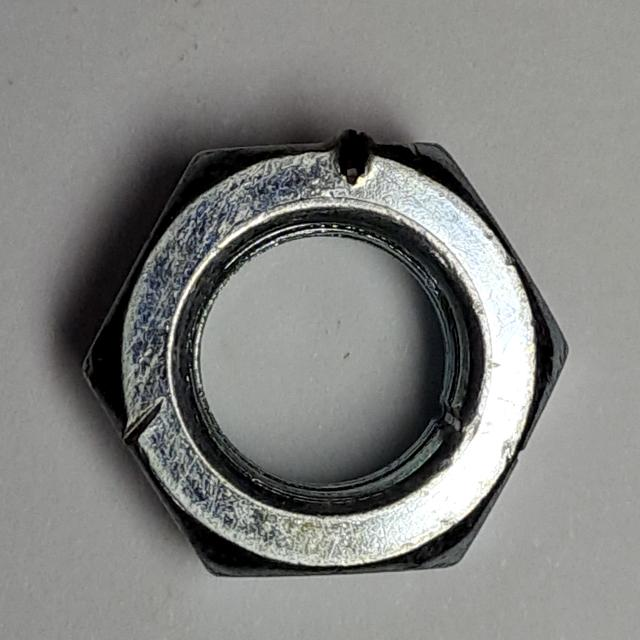Scratches: (74, 115, 581, 599)
